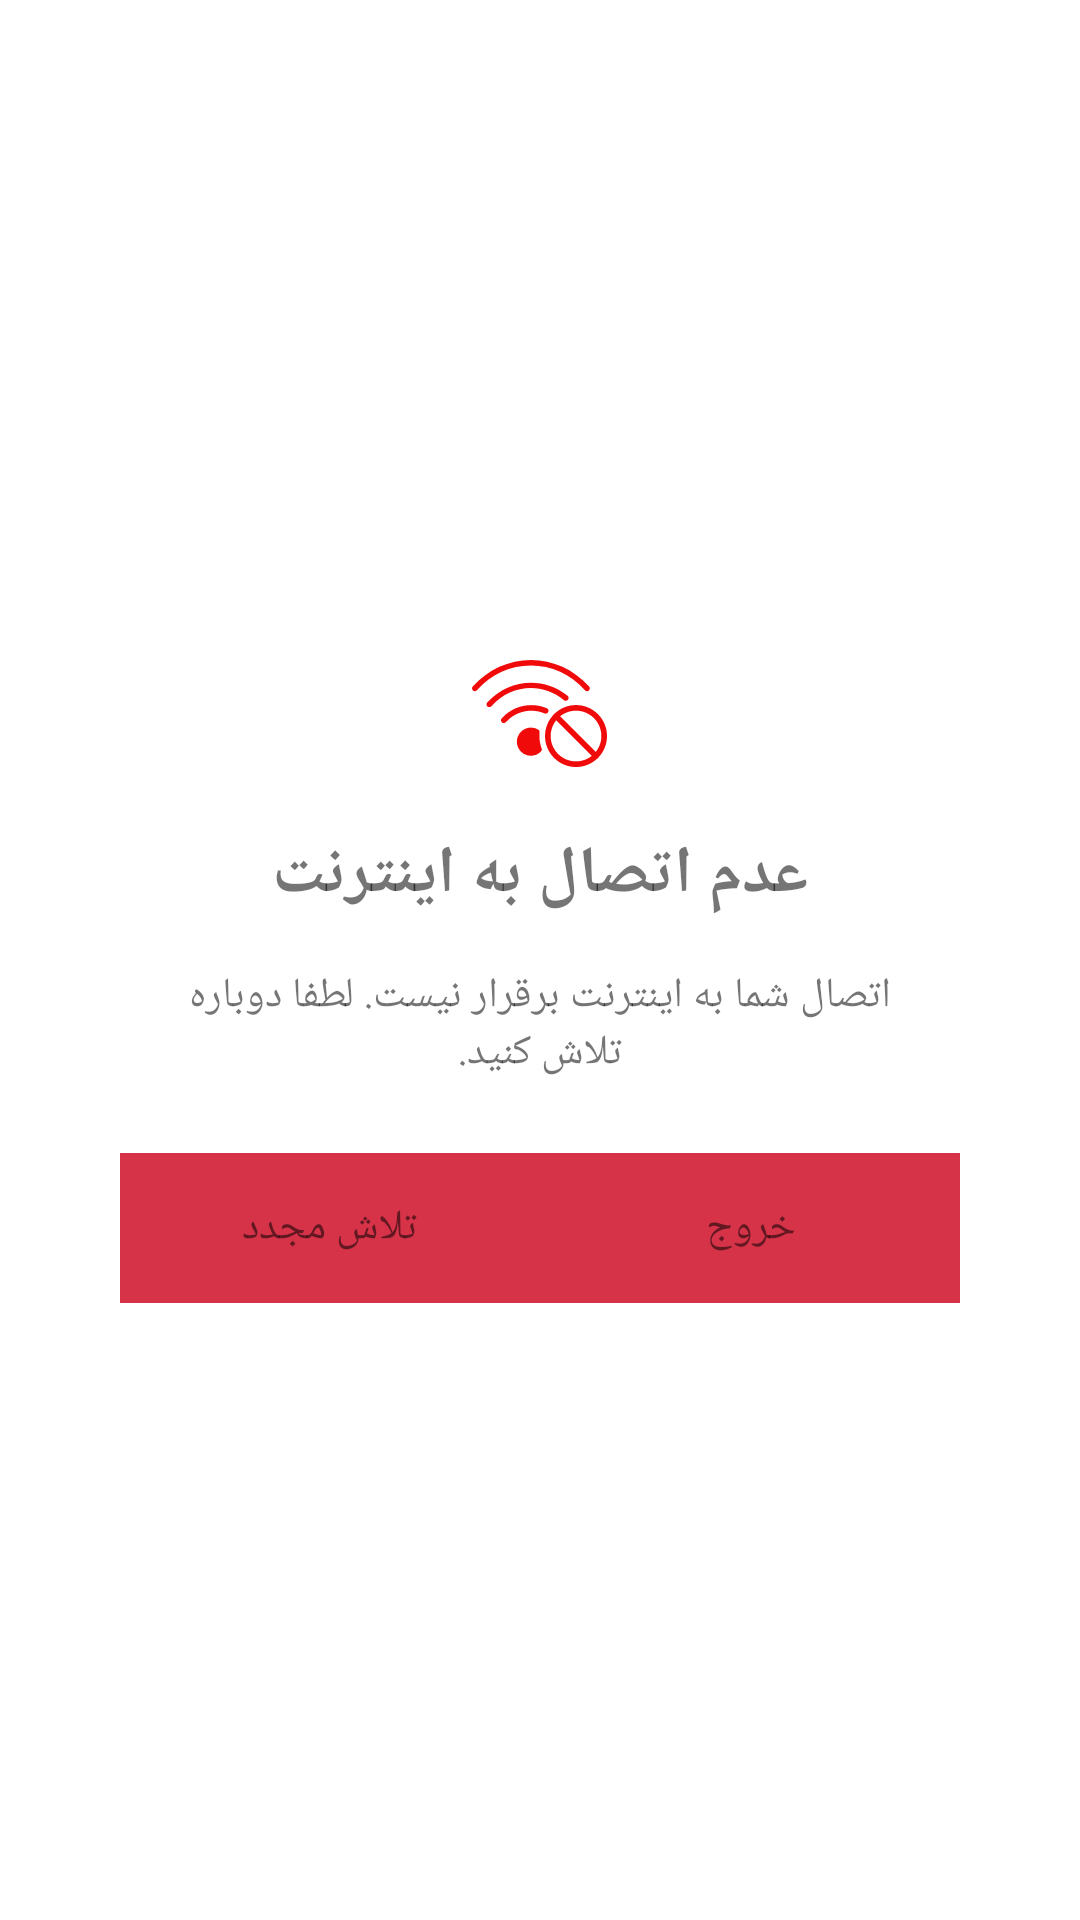

Icon bounding boxes for this 1080w x 1920h phone screenshot, format [left=x1, top=y1, right=x2, bottom=y2]:
no wifi: [left=472, top=660, right=607, bottom=767]
